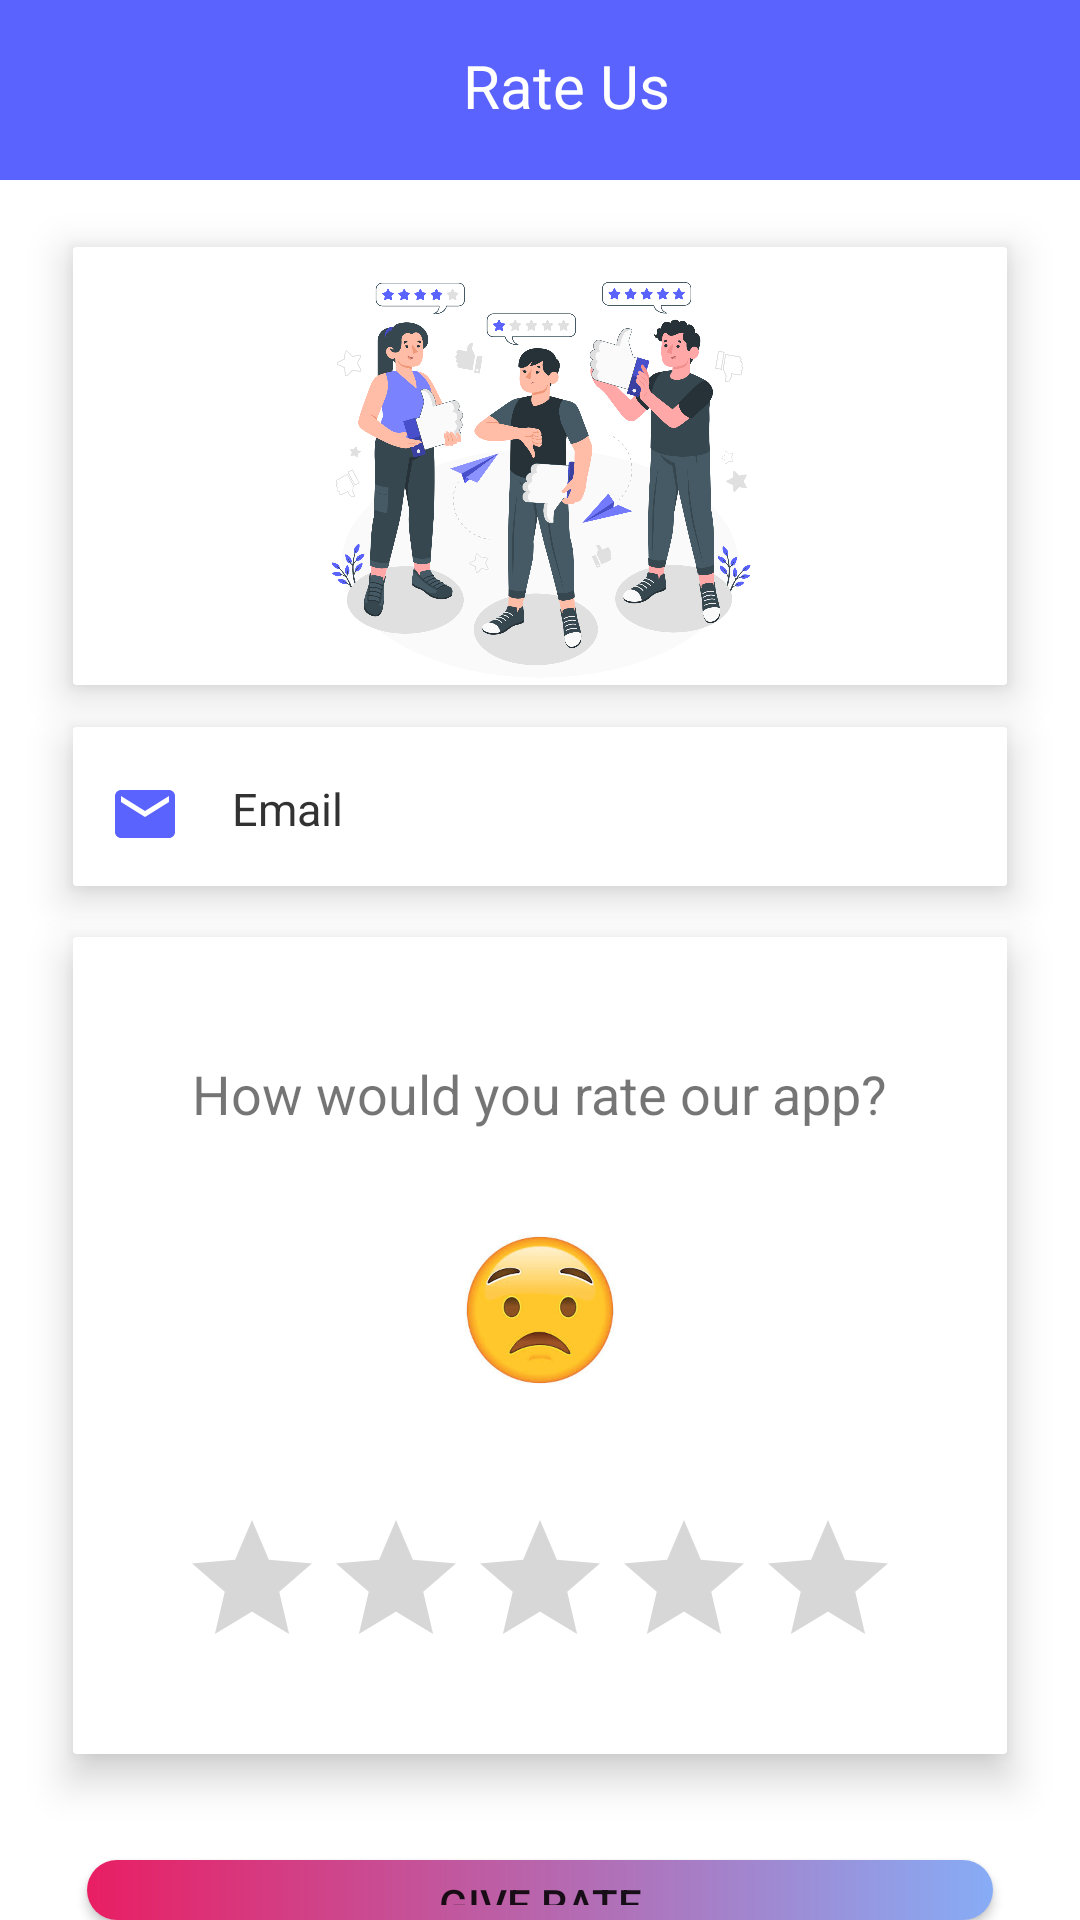

Icons on this 1080w x 1920h Android screen, each with its box as (x1, y1, x2, y2):
imoji four: (466, 1237, 614, 1383)
